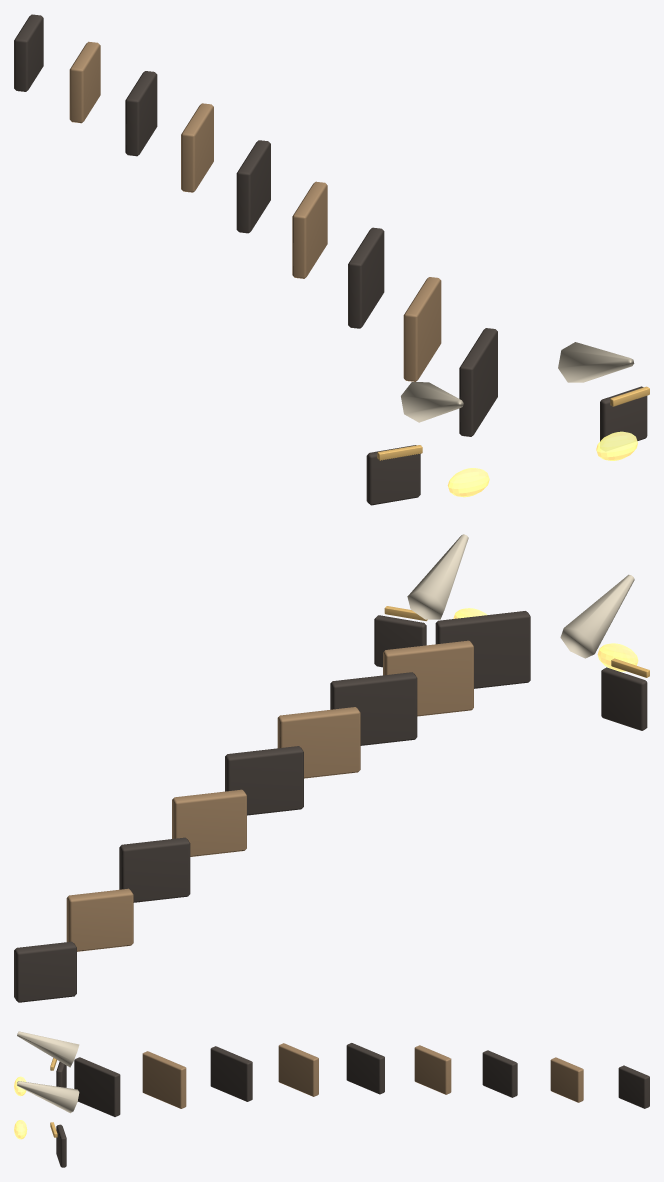
File: boss-creature-crest.glb
3 views of the same model, one above another, from view 1: azimuth 30°, elevation 25°; view 2: azimuth 150°, elevation 25°; view 3: azimuth 270°, elevation 25° (orthographic). The views are drawn at different scales.
Parts seen in each view (by area): view 1: boss_asset_low_dorsal_plate_00, boss_asset_low_dorsal_plate_01, boss_asset_low_dorsal_plate_02, boss_asset_low_dorsal_plate_03, boss_asset_low_cheek_plate_L, boss_asset_low_dorsal_plate_04, boss_asset_low_dorsal_plate_05, boss_asset_low_dorsal_plate_06, boss_asset_low_dorsal_plate_07, boss_asset_short_head_horn_R, boss_asset_low_dorsal_plate_08, boss_asset_low_cheek_plate_R (+3 smaller); view 2: boss_asset_low_dorsal_plate_00, boss_asset_low_dorsal_plate_01, boss_asset_low_dorsal_plate_02, boss_asset_low_dorsal_plate_03, boss_asset_low_dorsal_plate_04, boss_asset_low_dorsal_plate_05, boss_asset_low_dorsal_plate_06, boss_asset_low_dorsal_plate_07, boss_asset_low_dorsal_plate_08, boss_asset_short_head_horn_L, boss_asset_low_cheek_plate_L, boss_asset_short_head_horn_R (+2 smaller); view 3: boss_asset_low_dorsal_plate_00, boss_asset_low_dorsal_plate_01, boss_asset_low_dorsal_plate_02, boss_asset_low_dorsal_plate_03, boss_asset_low_dorsal_plate_04, boss_asset_low_dorsal_plate_05, boss_asset_low_dorsal_plate_06, boss_asset_low_dorsal_plate_07, boss_asset_low_dorsal_plate_08, boss_asset_short_head_horn_R, boss_asset_short_head_horn_L, boss_asset_low_cheek_plate_R (+1 smaller).
Part boxes in pixels (<box>): boss_asset_low_dorsal_plate_00: <box>459,328,497,436</box>; boss_asset_low_dorsal_plate_01: <box>403,277,441,381</box>; boss_asset_low_dorsal_plate_02: <box>348,227,384,328</box>; boss_asset_low_dorsal_plate_03: <box>292,181,327,278</box>; boss_asset_low_cheek_plate_L: <box>366,445,420,505</box>; boss_asset_low_dorsal_plate_04: <box>236,140,270,233</box>; boss_asset_low_dorsal_plate_05: <box>181,103,213,192</box>; boss_asset_low_dorsal_plate_06: <box>125,71,157,156</box>; boss_asset_low_dorsal_plate_07: <box>69,41,100,123</box>; boss_asset_short_head_horn_R: <box>558,342,634,382</box>; boss_asset_low_dorsal_plate_08: <box>14,14,43,91</box>; boss_asset_low_cheek_plate_R: <box>600,386,647,441</box>; boss_asset_low_dorsal_plate_00: <box>435,611,530,688</box>; boss_asset_low_dorsal_plate_01: <box>383,640,473,716</box>; boss_asset_low_dorsal_plate_02: <box>330,672,417,745</box>; boss_asset_low_dorsal_plate_03: <box>277,707,360,778</box>; boss_asset_low_dorsal_plate_04: <box>225,746,303,815</box>; boss_asset_low_dorsal_plate_05: <box>172,789,246,856</box>; boss_asset_low_dorsal_plate_06: <box>119,837,190,902</box>; boss_asset_low_dorsal_plate_07: <box>66,888,133,951</box>; boss_asset_low_dorsal_plate_08: <box>14,941,76,1002</box>; boss_asset_short_head_horn_L: <box>560,574,634,658</box>; boss_asset_low_cheek_plate_L: <box>601,667,647,730</box>; boss_asset_short_head_horn_R: <box>407,534,468,619</box>; boss_asset_low_dorsal_plate_00: <box>74,1057,120,1116</box>; boss_asset_low_dorsal_plate_01: <box>142,1051,186,1108</box>; boss_asset_low_dorsal_plate_02: <box>210,1046,252,1101</box>; boss_asset_low_dorsal_plate_03: <box>278,1043,318,1096</box>; boss_asset_low_dorsal_plate_04: <box>346,1043,384,1094</box>; boss_asset_low_dorsal_plate_05: <box>414,1045,451,1094</box>; boss_asset_low_dorsal_plate_06: <box>482,1050,517,1097</box>; boss_asset_low_dorsal_plate_07: <box>550,1057,583,1102</box>; boss_asset_low_dorsal_plate_08: <box>618,1065,649,1108</box>; boss_asset_short_head_horn_R: <box>17,1081,79,1113</box>; boss_asset_short_head_horn_L: <box>17,1031,79,1067</box>; boss_asset_low_cheek_plate_R: <box>56,1124,66,1167</box>.
Bounding box in the file's own units: 0.7505 × 0.3337 × 2.49.
